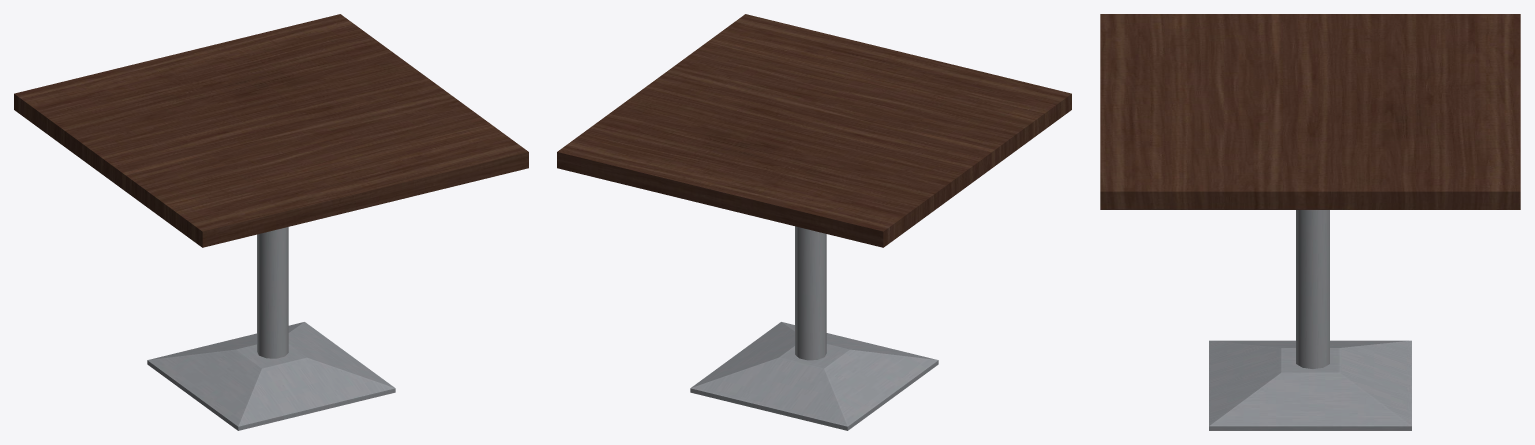
The model's file is SM_Table_01.glb.
3 views of the same model, side by side, from view 1: azimuth 30°, elevation 25°; view 2: azimuth 150°, elevation 25°; view 3: azimuth 270°, elevation 25° (orthographic). The views are drawn at different scales.
Parts seen in each view (by area): view 1: SM_Table_01; view 2: SM_Table_01; view 3: SM_Table_01.
Boxes of the visible parts, x1,y1,x2,y2 form: SM_Table_01: (14, 14, 528, 430); SM_Table_01: (557, 14, 1071, 430); SM_Table_01: (1100, 14, 1520, 430).
Size of the model in its own units: 1.13 by 0.8435 by 1.13.
1 material, 1 textured.
